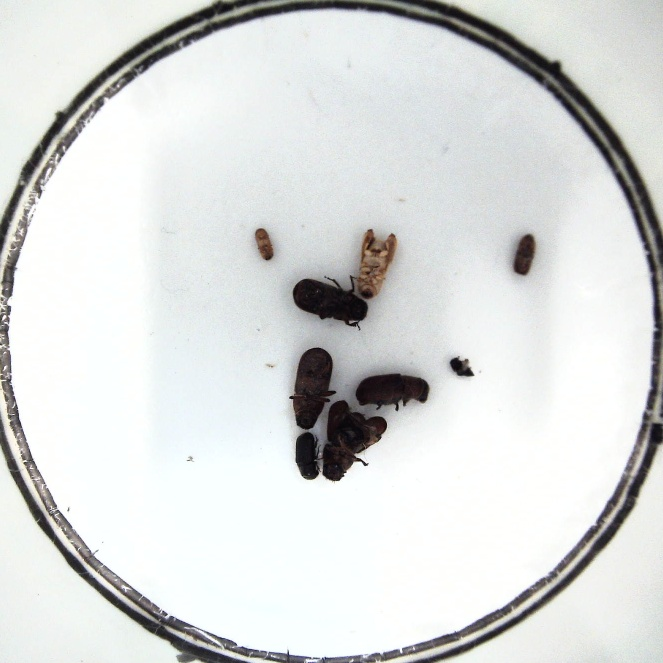acuminatus: (252, 225, 274, 261)
armandi: (293, 430, 321, 481)
boerner: (353, 227, 398, 299)
coleoptera: (448, 356, 474, 380)
leconte: (320, 399, 383, 485), (290, 277, 367, 328), (290, 348, 330, 428), (353, 371, 430, 411)
linnaeus: (512, 233, 540, 277)
